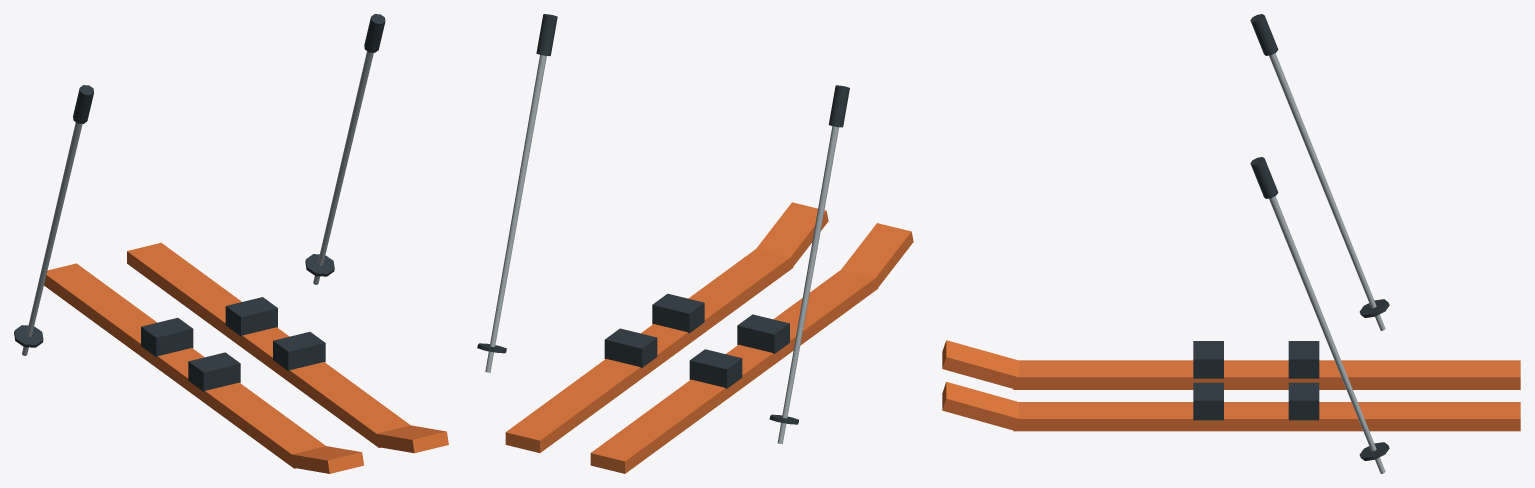
The model's file is ski.glb.
3 renders of one model, left to right at view 1: azimuth 30°, elevation 25°; view 2: azimuth 150°, elevation 25°; view 3: azimuth 270°, elevation 25°, orthographic.
Visible parts, largest first — view 1: ski.board.left, ski.board.right, ski.pole.left, ski.pole.right; view 2: ski.board.left, ski.board.right, ski.pole.left, ski.pole.right; view 3: ski.board.left, ski.board.right, ski.pole.left, ski.pole.right.
Part boxes in pixels (x1,y1,x2,y2): ski.board.left: (127, 242, 448, 453); ski.board.right: (44, 263, 363, 473); ski.pole.left: (305, 14, 385, 284); ski.pole.right: (14, 85, 93, 355); ski.board.left: (505, 202, 828, 452); ski.board.right: (590, 223, 913, 473); ski.pole.left: (477, 14, 557, 372); ski.pole.right: (769, 85, 849, 444); ski.board.left: (942, 382, 1520, 431); ski.board.right: (942, 340, 1520, 389); ski.pole.left: (1250, 157, 1389, 473); ski.pole.right: (1250, 14, 1389, 330).
Bounding box in the file's own units: 1.2 × 1.13 × 1.88.
